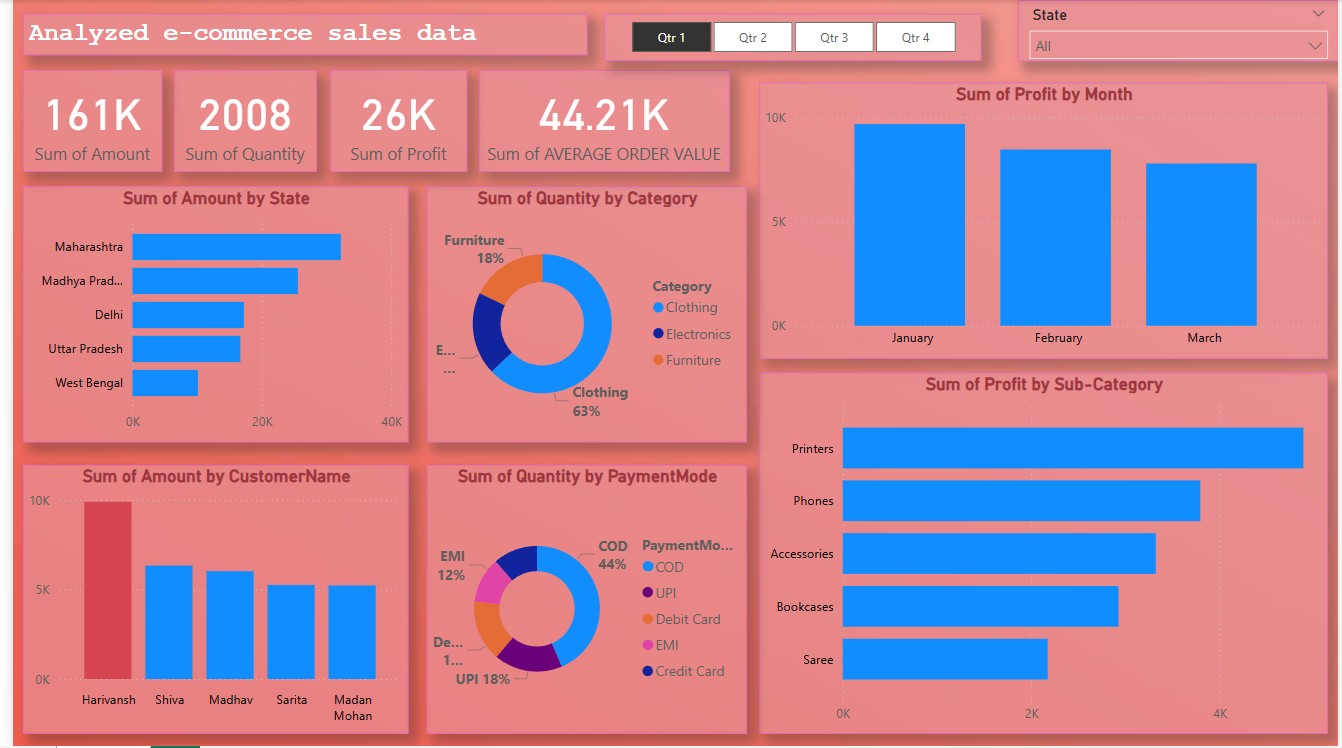

The page's visual inventory and layout, read from the dashboard file:
{"tool":"powerbi","page":{"name":"Page 1","canvas":[1280,720],"ordinal":0},"visuals":[{"type":"textbox","box":[9.6,13.7,544.8,39.8],"z":0},{"type":"columnChart","fields":{"Category":["Orders.Order Date.Variation.Date Hierarchy.Month"],"Y":["Details.Profit"]},"box":[720.4,79.6,548.9,266.2],"z":1000},{"type":"barChart","fields":{"Category":["Details.Sub-Category"],"Y":["Details.Profit"]},"box":[720.4,359.5,548.9,348.5],"z":2000},{"type":"donutChart","fields":{"Category":["Details.Category"],"Y":["Details.Quantity"]},"box":[399.3,179.8,308.7,247],"z":3000},{"type":"donutChart","fields":{"Category":["Details.PaymentMode","Details.Category"],"Y":["Details.Quantity"]},"box":[399.3,448.7,308.7,259.3],"z":4000},{"type":"card","fields":{"Values":["Details.Amount"]},"box":[9.6,67.2,134.5,98.8],"z":5000},{"type":"card","fields":{"Values":["Details.Quantity"]},"box":[155.1,67.2,137.2,98.8],"z":6000},{"type":"card","fields":{"Values":["Details.Profit"]},"box":[306,67.2,131.7,98.8],"z":7000},{"type":"card","fields":{"Values":["Details.AVERAGE ORDER VALUE"]},"box":[450.1,67.2,241.5,98.8],"z":8000},{"type":"barChart","fields":{"Category":["Orders.State"],"Y":["Details.Amount"]},"box":[9.6,179.8,371.9,247],"z":9000},{"type":"columnChart","fields":{"Category":["Orders.CustomerName"],"Y":["Details.Amount"]},"box":[10,449,372,259],"z":10000},{"type":"slicer","fields":{"Values":["Orders.Order Date.Variation.Date Hierarchy.Quarter"]},"box":[570.8,13.7,363.6,45.3],"z":11000},{"type":"slicer","fields":{"Values":["Orders.State"]},"box":[970.2,0,310.1,59],"z":12000}]}

Visuals, with their boxes in screenshot pixels (x1, y1, x2, y2), scaled from the page's 1280x720 canvas onto the 1342x748 screenshot:
textbox: (10, 14, 581, 56)
columnChart - Orders.Order Date.Variation.Date Hierarchy.Month x Details.Profit: (755, 83, 1331, 359)
barChart - Details.Sub-Category x Details.Profit: (755, 373, 1331, 736)
donutChart - Details.Category x Details.Quantity: (419, 187, 742, 443)
donutChart - Details.PaymentMode x Details.Category: (419, 466, 742, 736)
card - Details.Amount: (10, 70, 151, 172)
card - Details.Quantity: (163, 70, 306, 172)
card - Details.Profit: (321, 70, 459, 172)
card - Details.AVERAGE ORDER VALUE: (472, 70, 725, 172)
barChart - Orders.State x Details.Amount: (10, 187, 400, 443)
columnChart - Orders.CustomerName x Details.Amount: (10, 466, 401, 736)
slicer - Orders.Order Date.Variation.Date Hierarchy.Quarter: (598, 14, 980, 61)
slicer - Orders.State: (1017, 0, 1341, 61)
